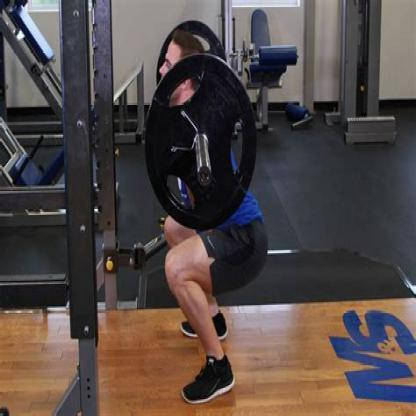barbell: (146, 19, 256, 231)
